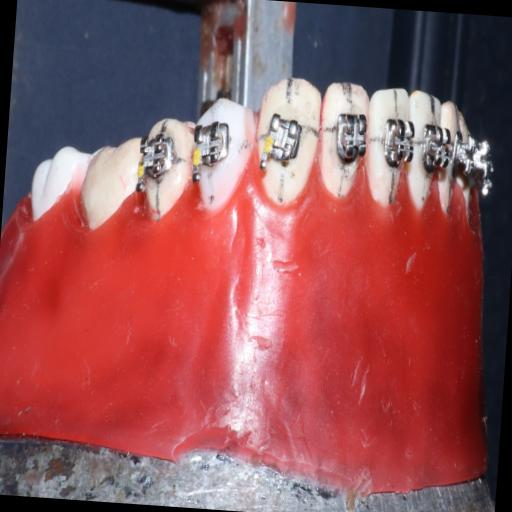incorrect_brace: (257, 110, 305, 182)
